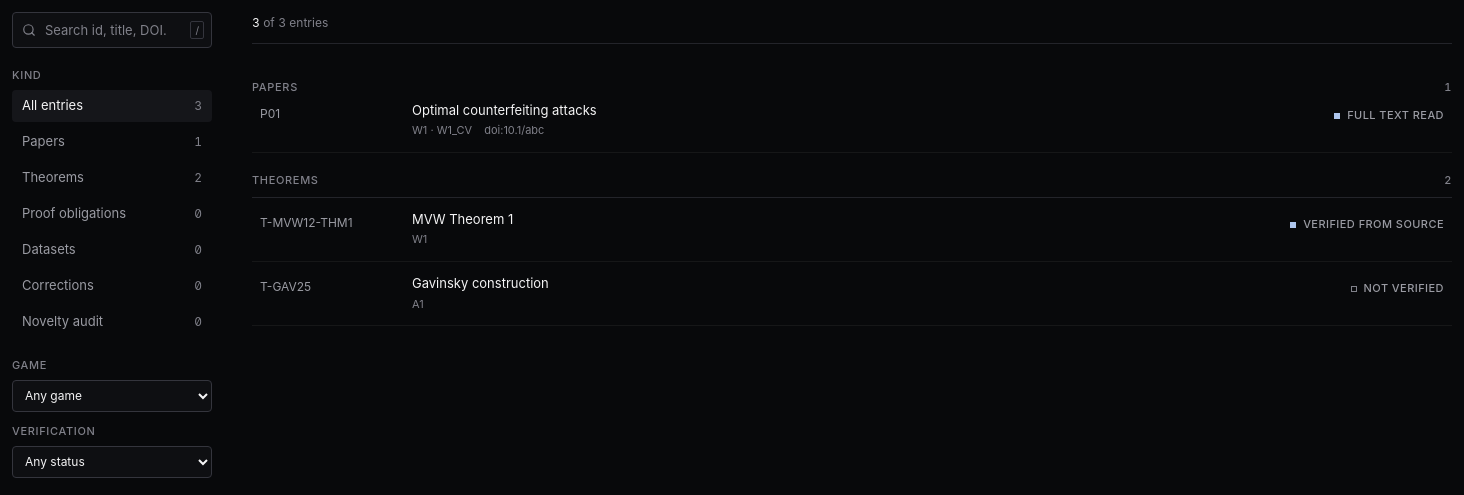
Test: research index › renders grouped rows, narrows on search and offers to clear
The image size is (1464, 495).
Expected: the heading "Papers 1" is shown, [252,60,1452,104]
In the search field: (112, 30) [12,12,212,48], type "gavinsky"
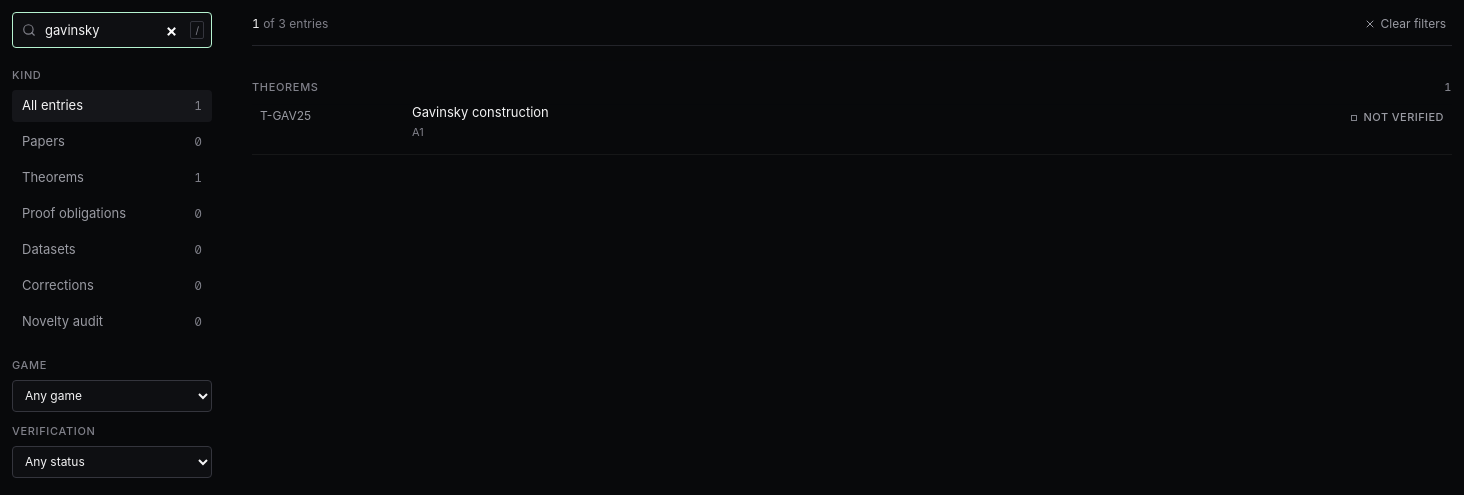
Expected: the text "Gavinsky construction" is shown, [412,104,549,120]
Expected: the link "P01" is gone
Click the button "Clear filters": (1405, 24) [1358,12,1452,37]
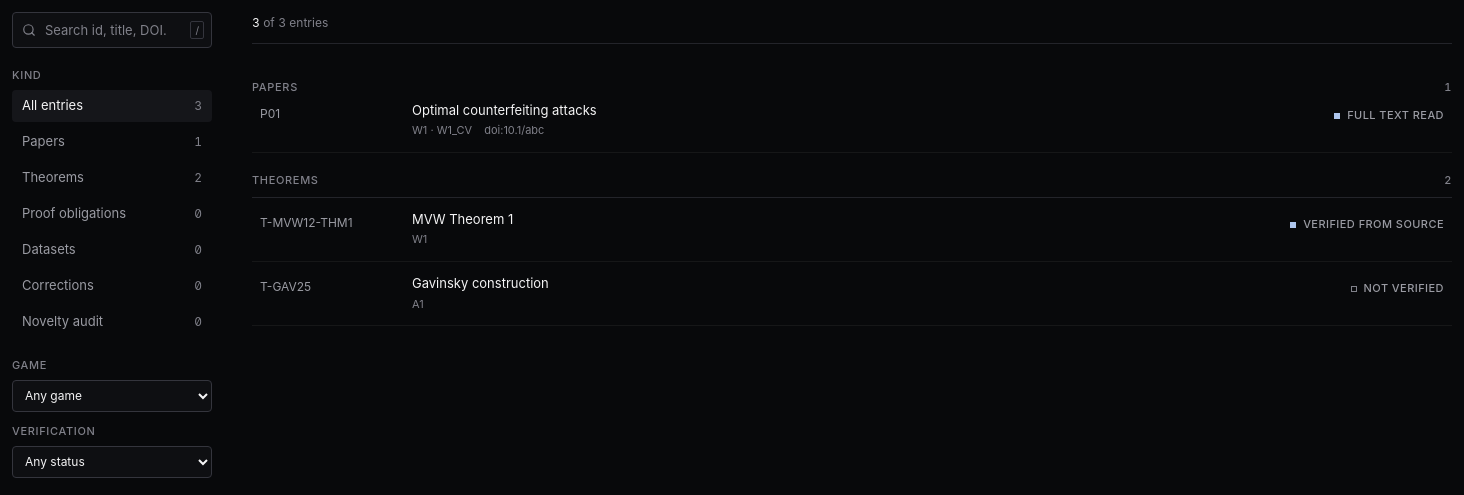
Expected: the link "P01" is shown, [260,102,1444,137]
